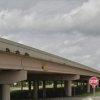Bridge: (8, 25, 85, 92)
